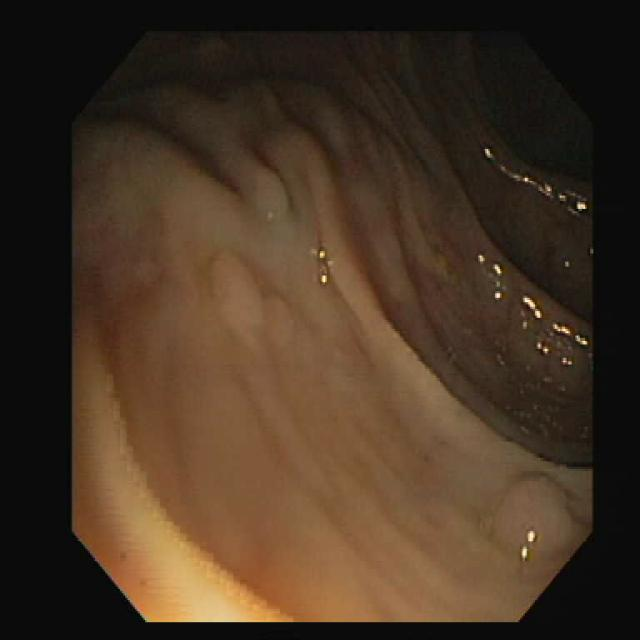tumor: (503, 469, 590, 569), (203, 251, 290, 347), (248, 169, 290, 218)
